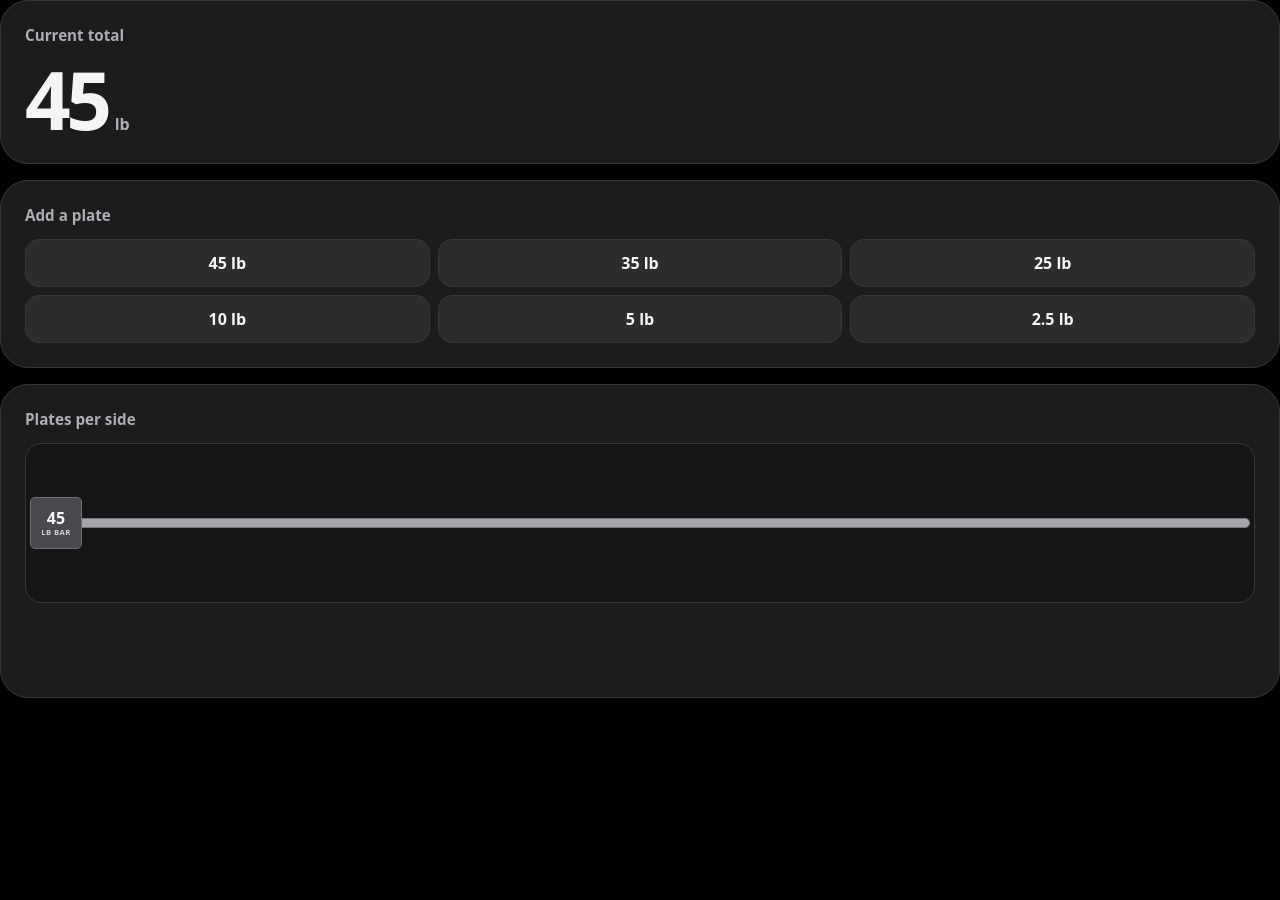
it: Slice 003 Plates to Total Weight calculator › S3-AC-003 exposes and adds exactly every supported denomination
Click the button with aria-label "Add 45 lb plate".
click(227, 263)  # box [25,239,430,287]
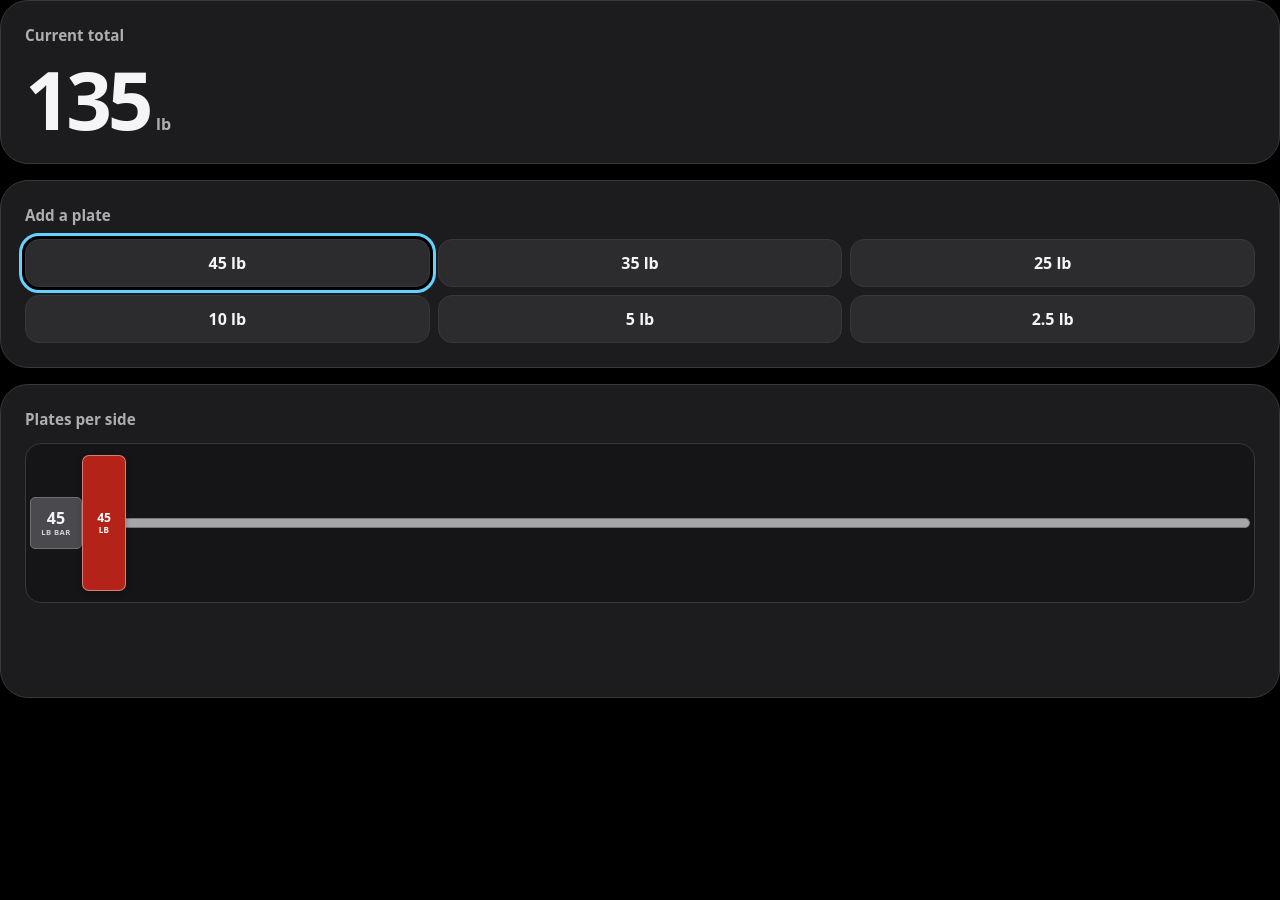
Click the button "35 lb".
click(640, 263)  # box [438,239,842,287]
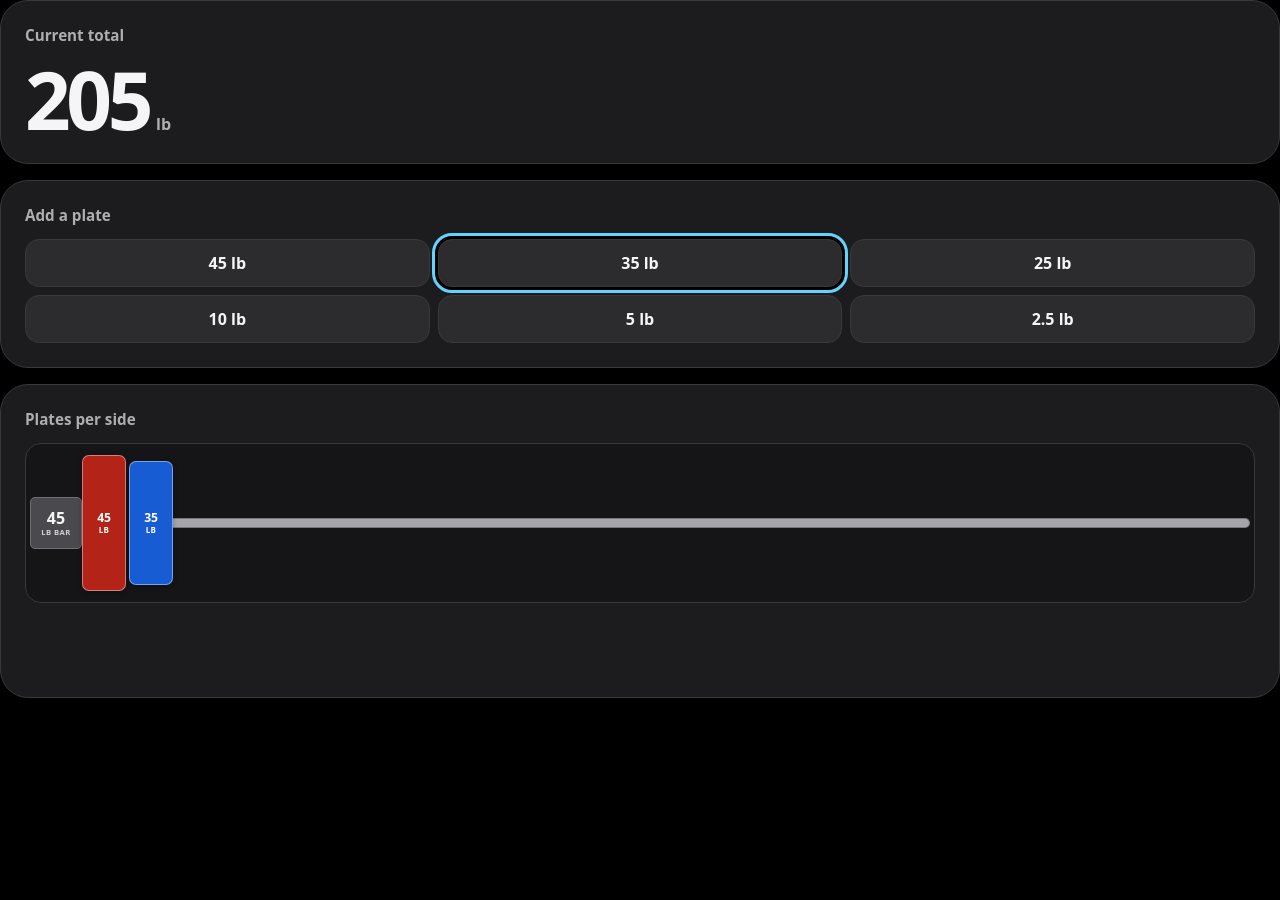
Click the button "25 lb".
click(1053, 263)  # box [850,239,1255,287]
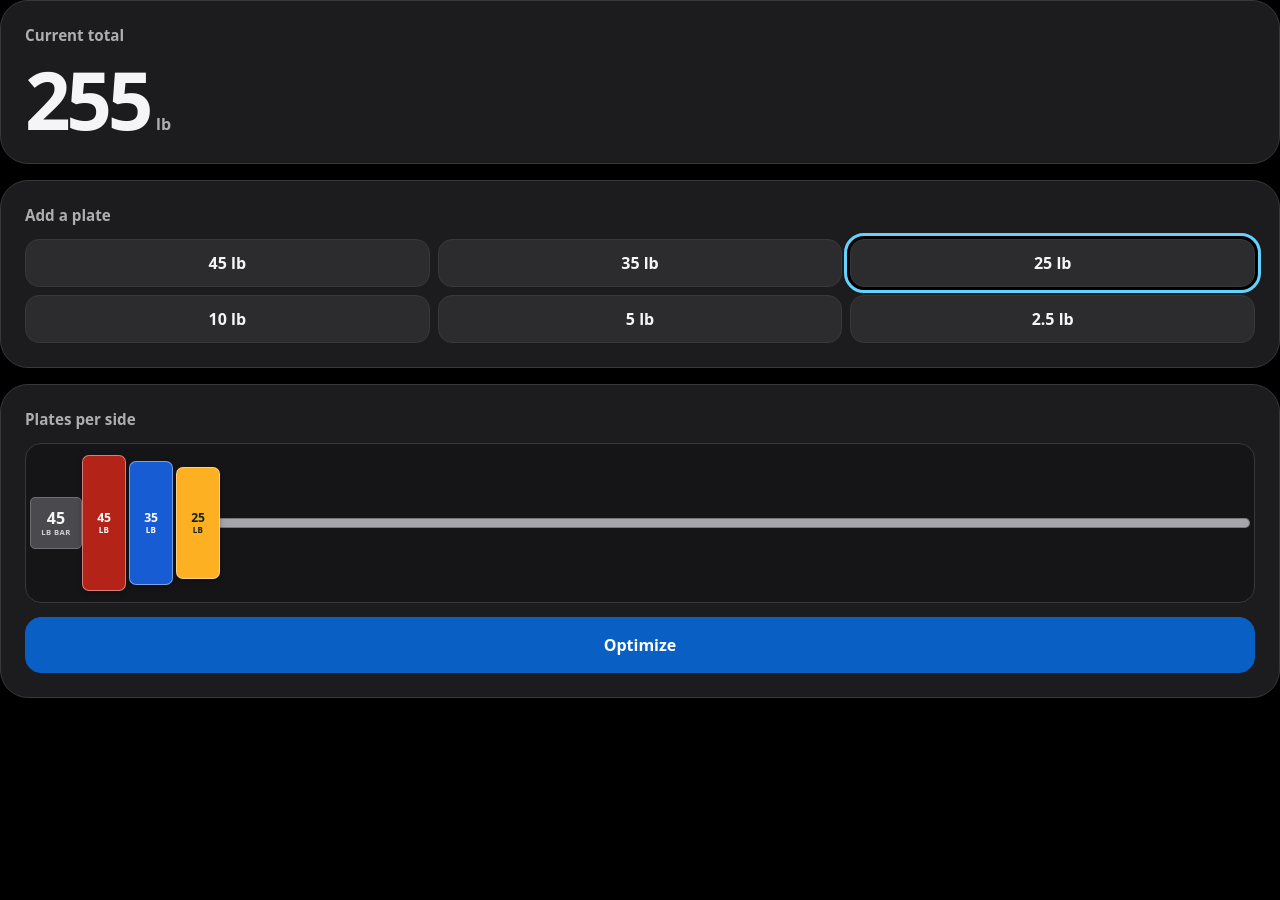
Click the button with aria-label "Add 10 lb plate".
click(227, 319)  # box [25,295,430,343]
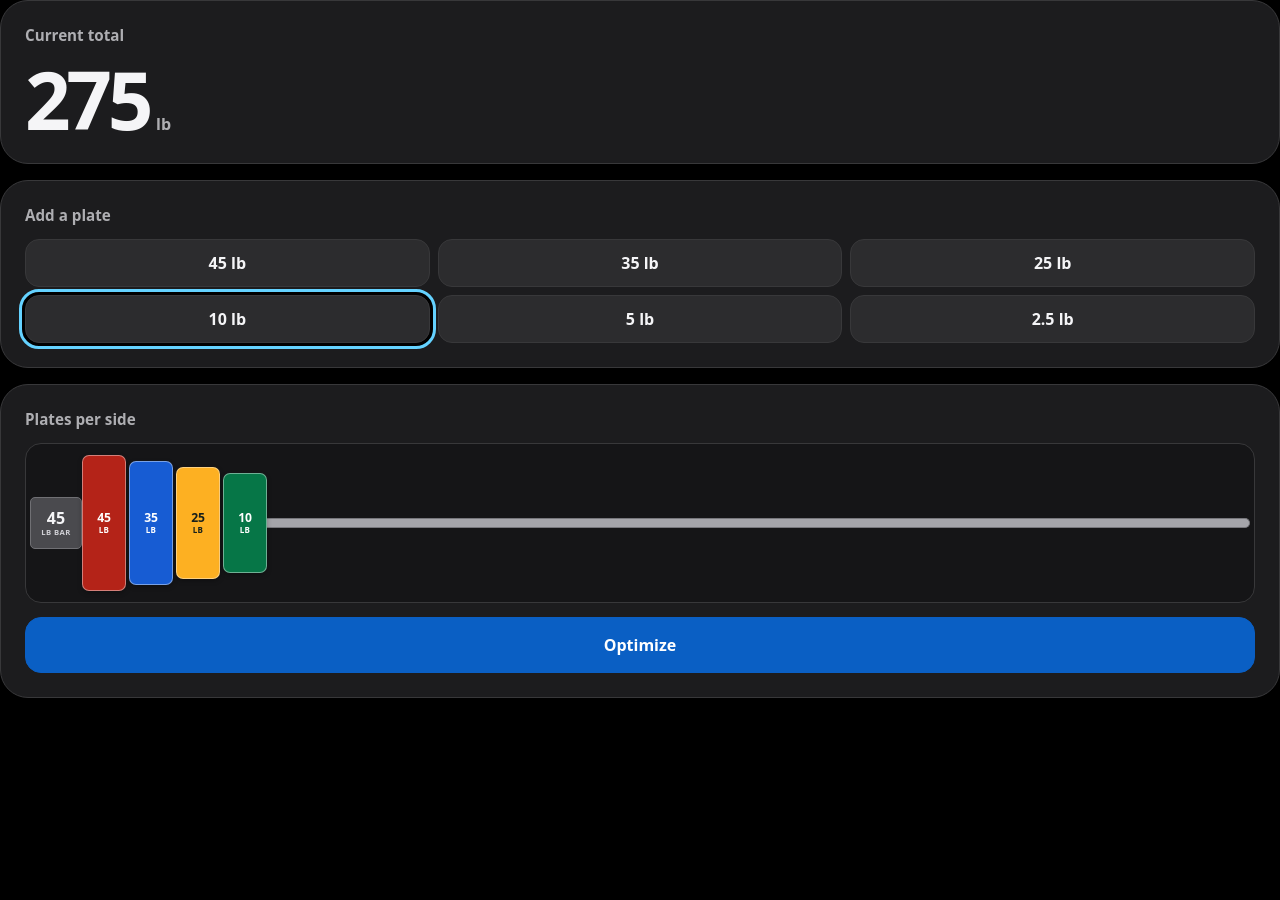
Click the button "5 lb".
click(640, 319)  # box [438,295,842,343]
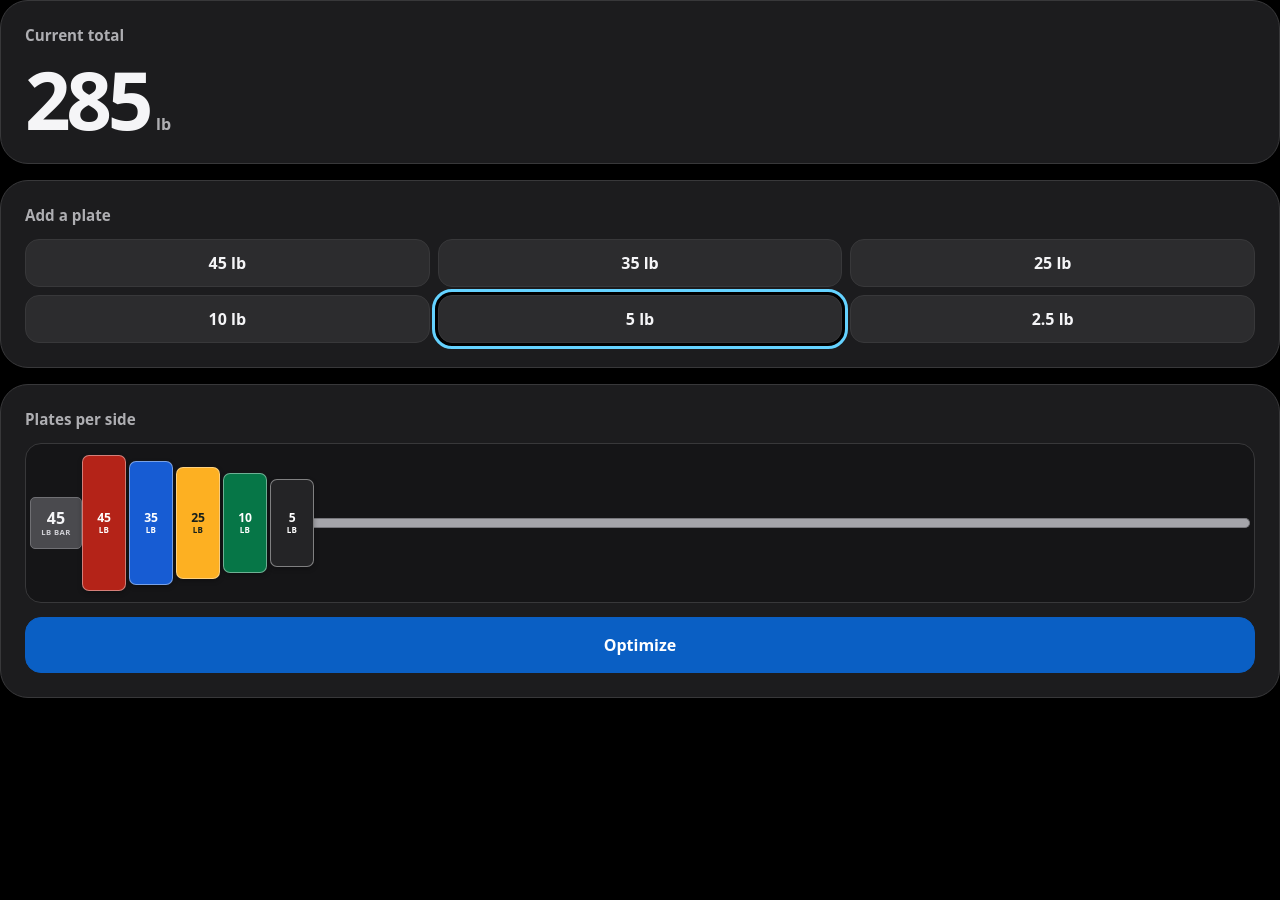
Click the button "2.5 lb".
click(1053, 319)  # box [850,295,1255,343]
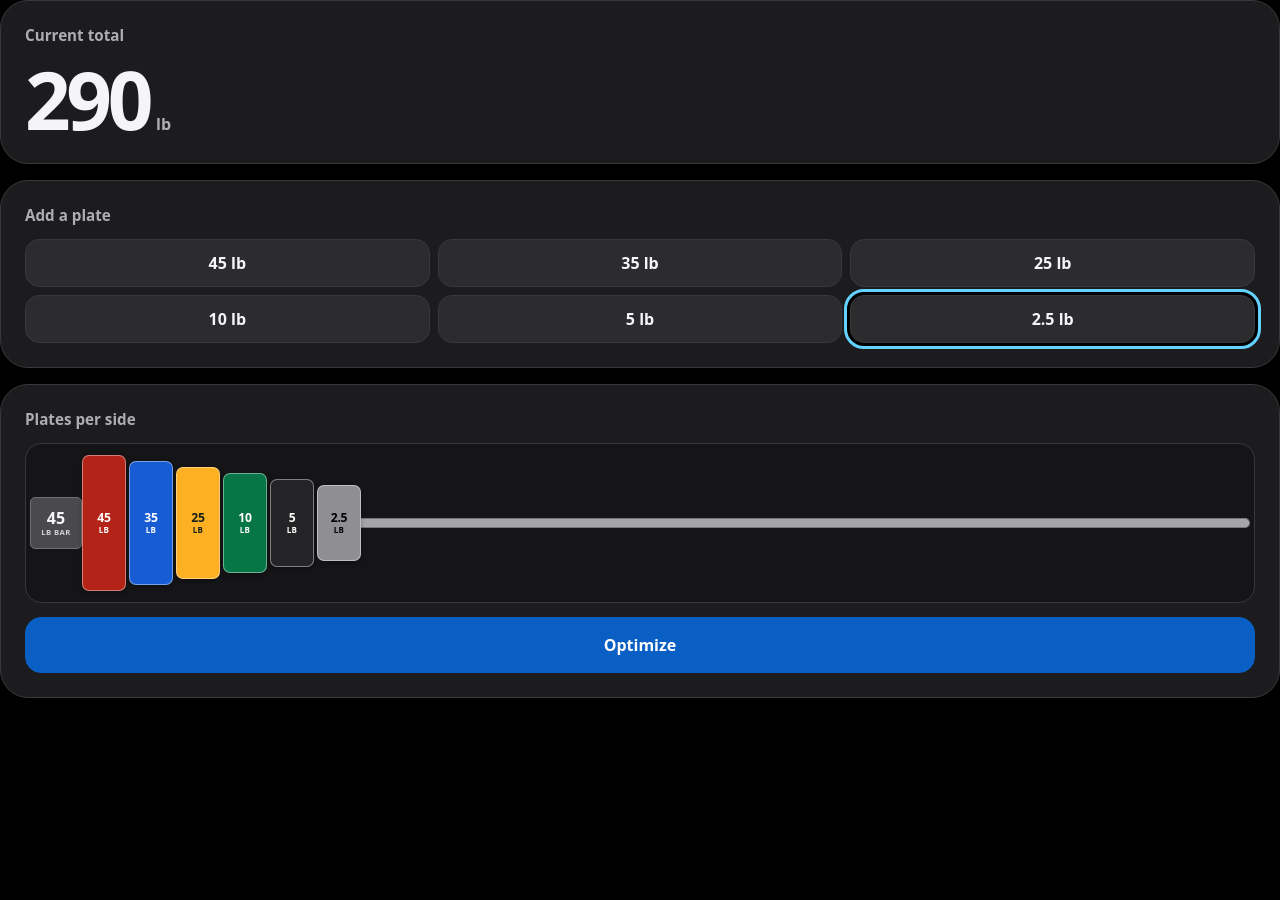
Check: the number of buttons named "Remove " is 6, box [82,455,126,591]; [129,461,173,585]; [176,467,220,579]; [223,473,267,573]; [270,479,314,567]; [317,485,361,561]
